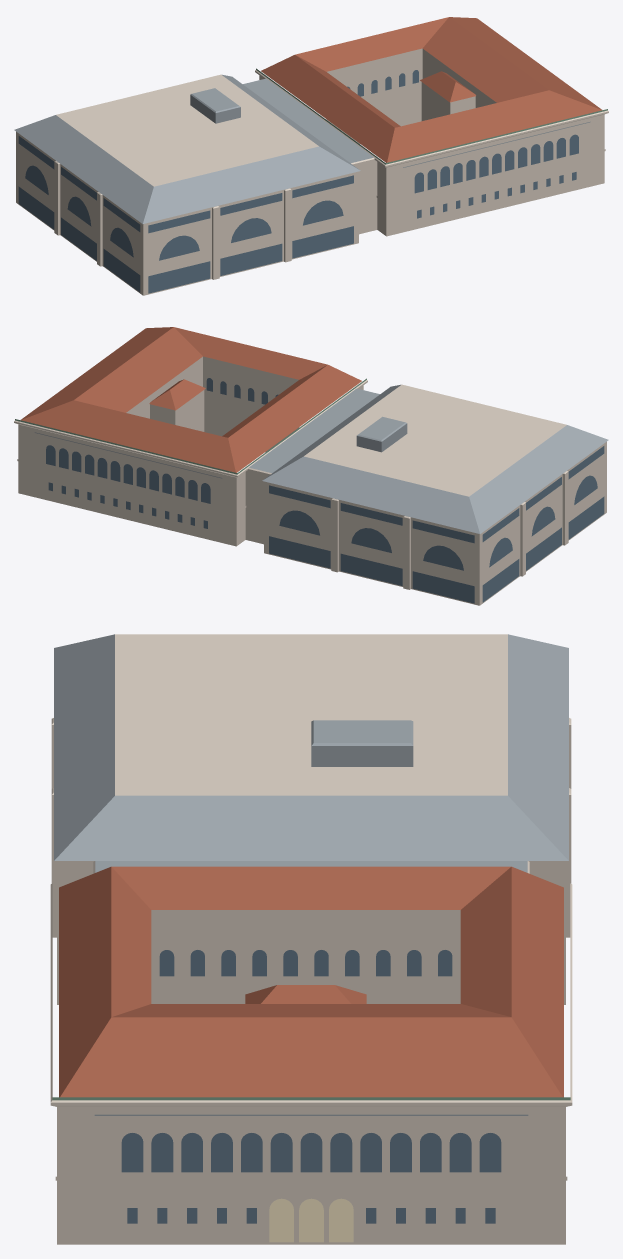
The model's file is bos-boston-public-library.glb.
3 renders of one model, top to bottom at view 1: azimuth 30°, elevation 25°; view 2: azimuth 150°, elevation 25°; view 3: azimuth 270°, elevation 25°, orthographic. The views are drawn at different scales.
Visible parts, largest first — view 1: Boston Public Library; view 2: Boston Public Library; view 3: Boston Public Library.
Boxes of the visible parts, box(x1,y1,x2,y2) form: Boston Public Library: box(14, 17, 608, 295); Boston Public Library: box(14, 327, 608, 605); Boston Public Library: box(50, 634, 572, 1244).
Size of the model in its own units: 148 by 31.5 by 71.7.
